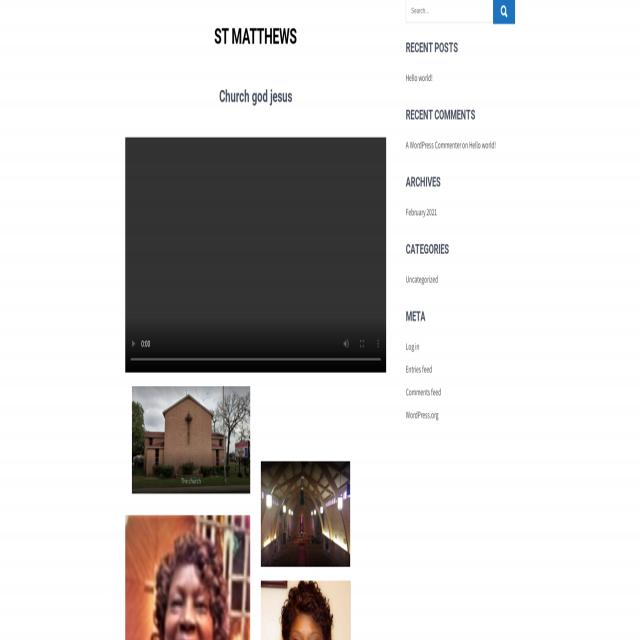button: (126, 137, 387, 372), (125, 514, 249, 640), (132, 386, 250, 493), (261, 461, 351, 567), (260, 579, 352, 640), (493, 0, 515, 24)
field: (406, 0, 493, 23)
